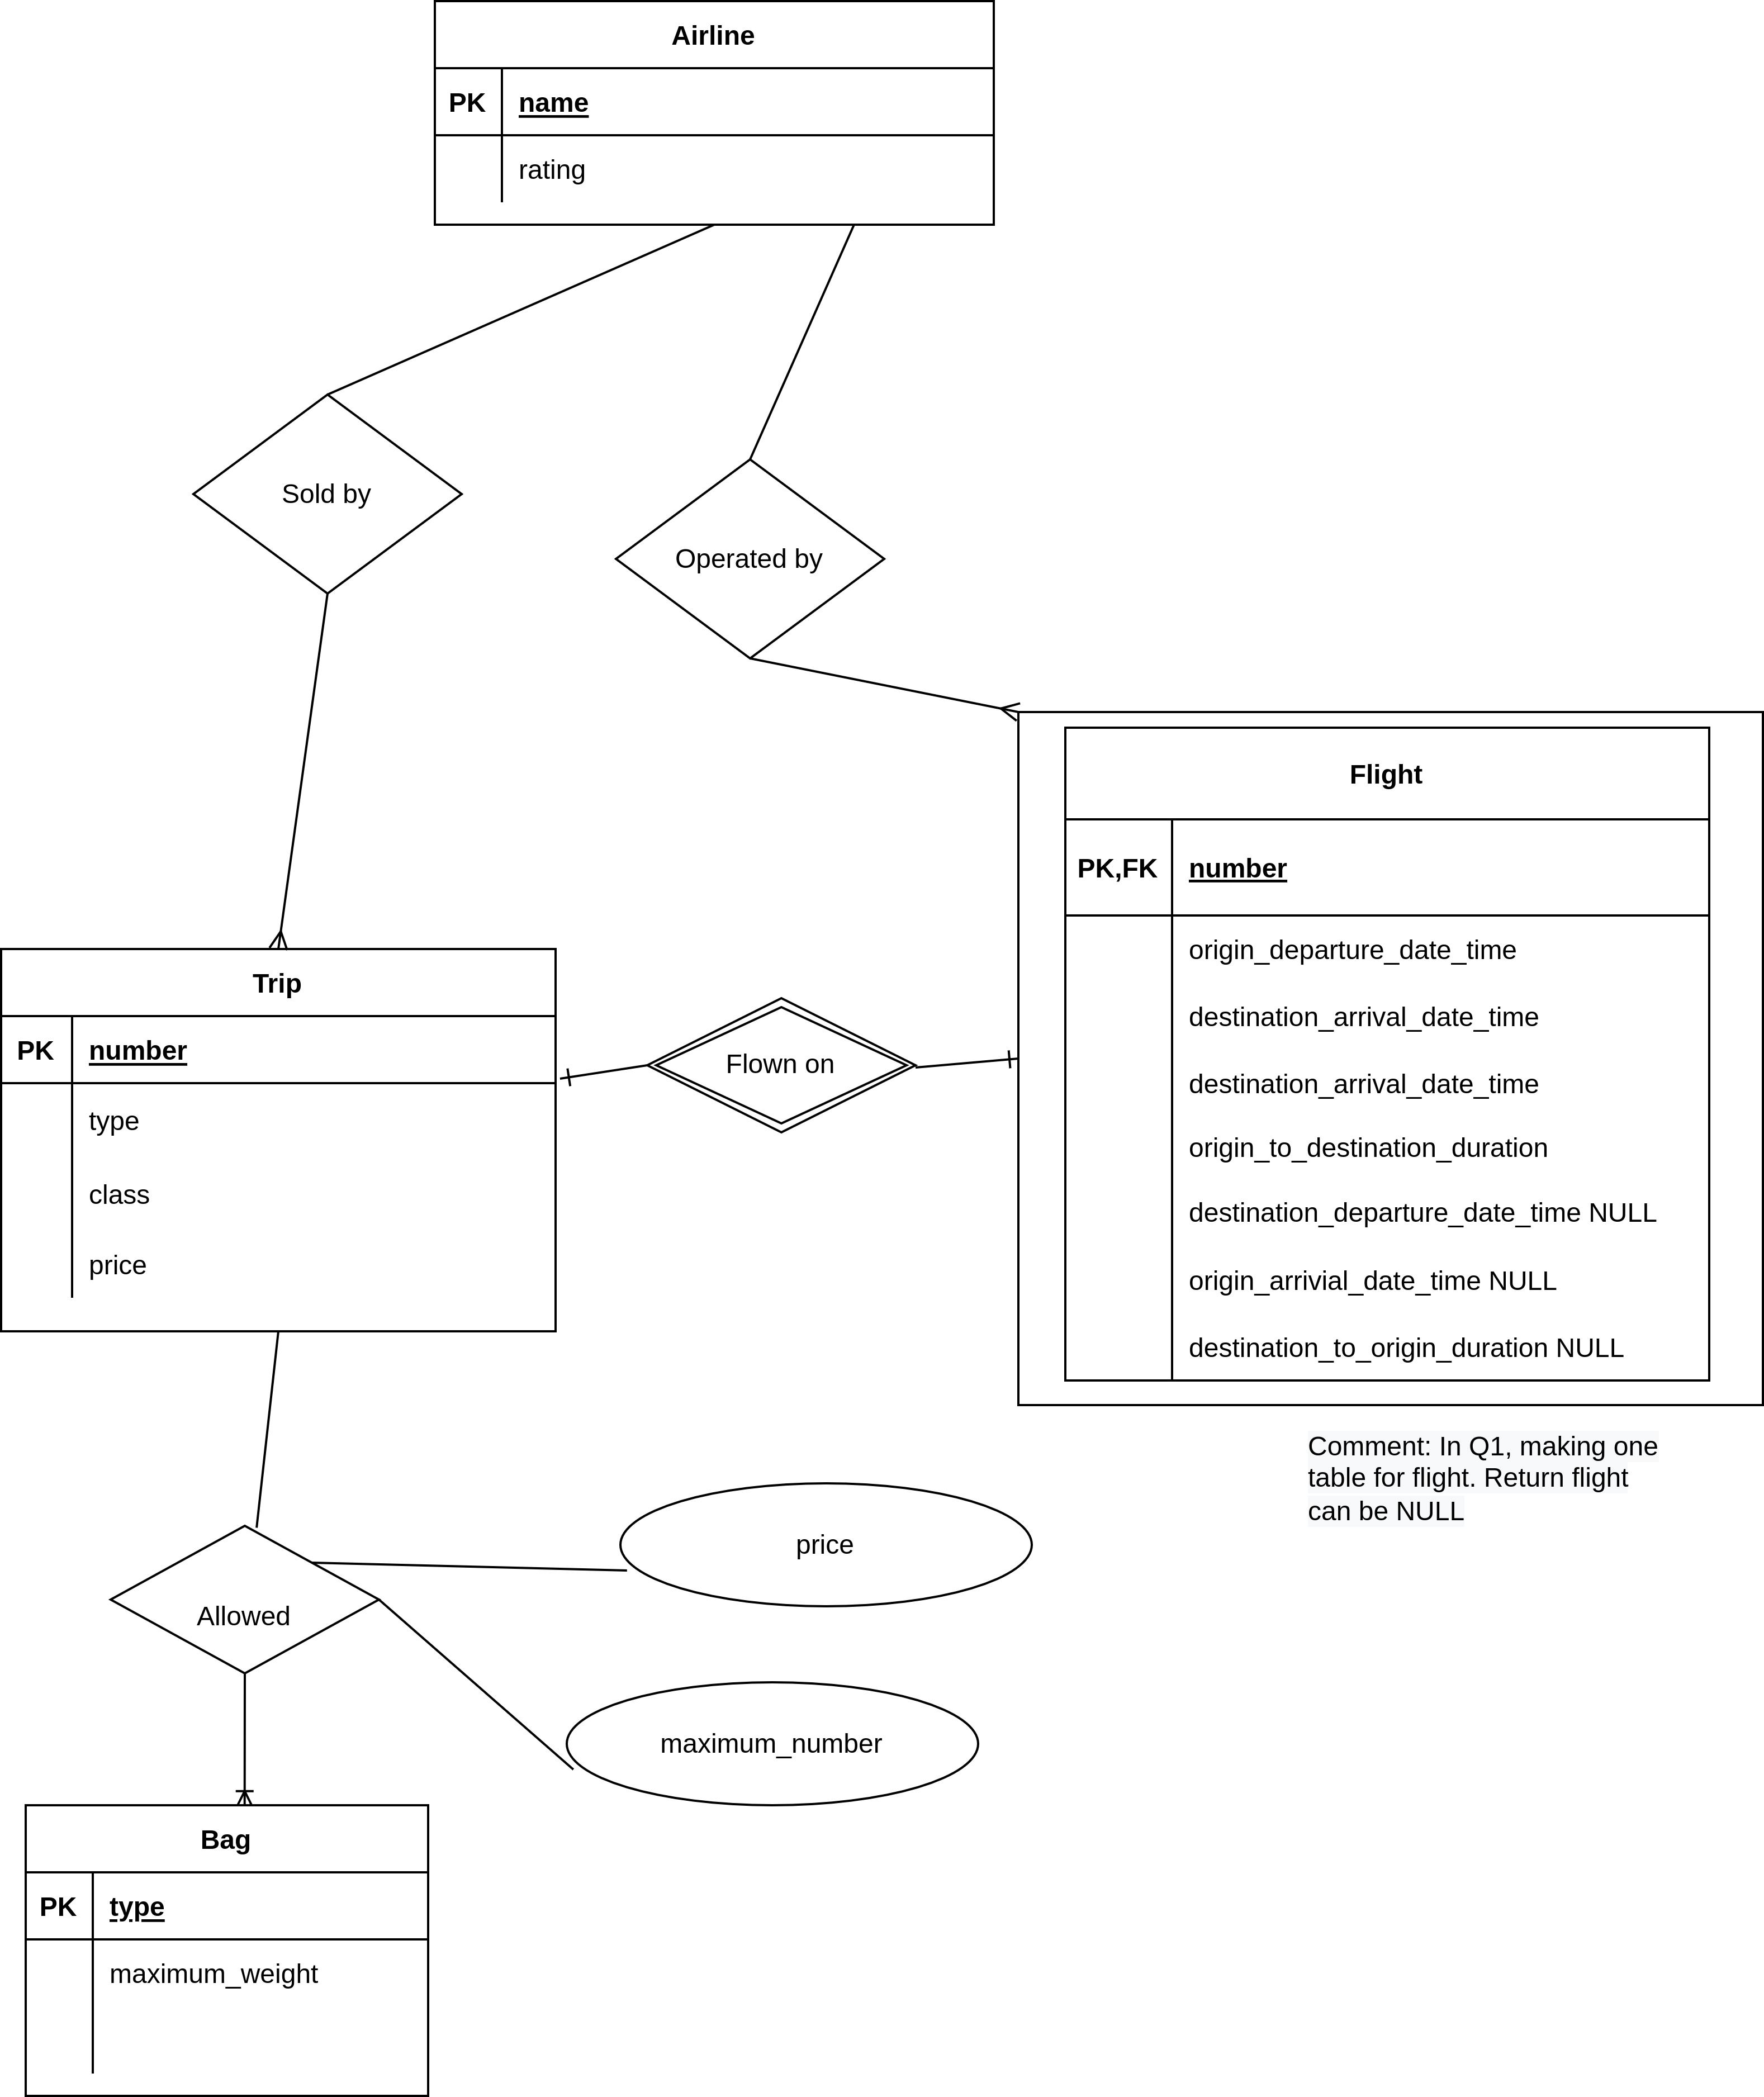attribute: (614, 1479, 1032, 1607), (569, 1680, 983, 1805)
entity: (0, 943, 562, 1337), (432, 0, 999, 233), (19, 1799, 429, 2097)
relationship: (614, 459, 884, 663), (192, 392, 462, 595), (105, 1525, 380, 1677)
weakentity: (1008, 709, 1764, 1404)
weakrelationship: (646, 994, 915, 1134)
